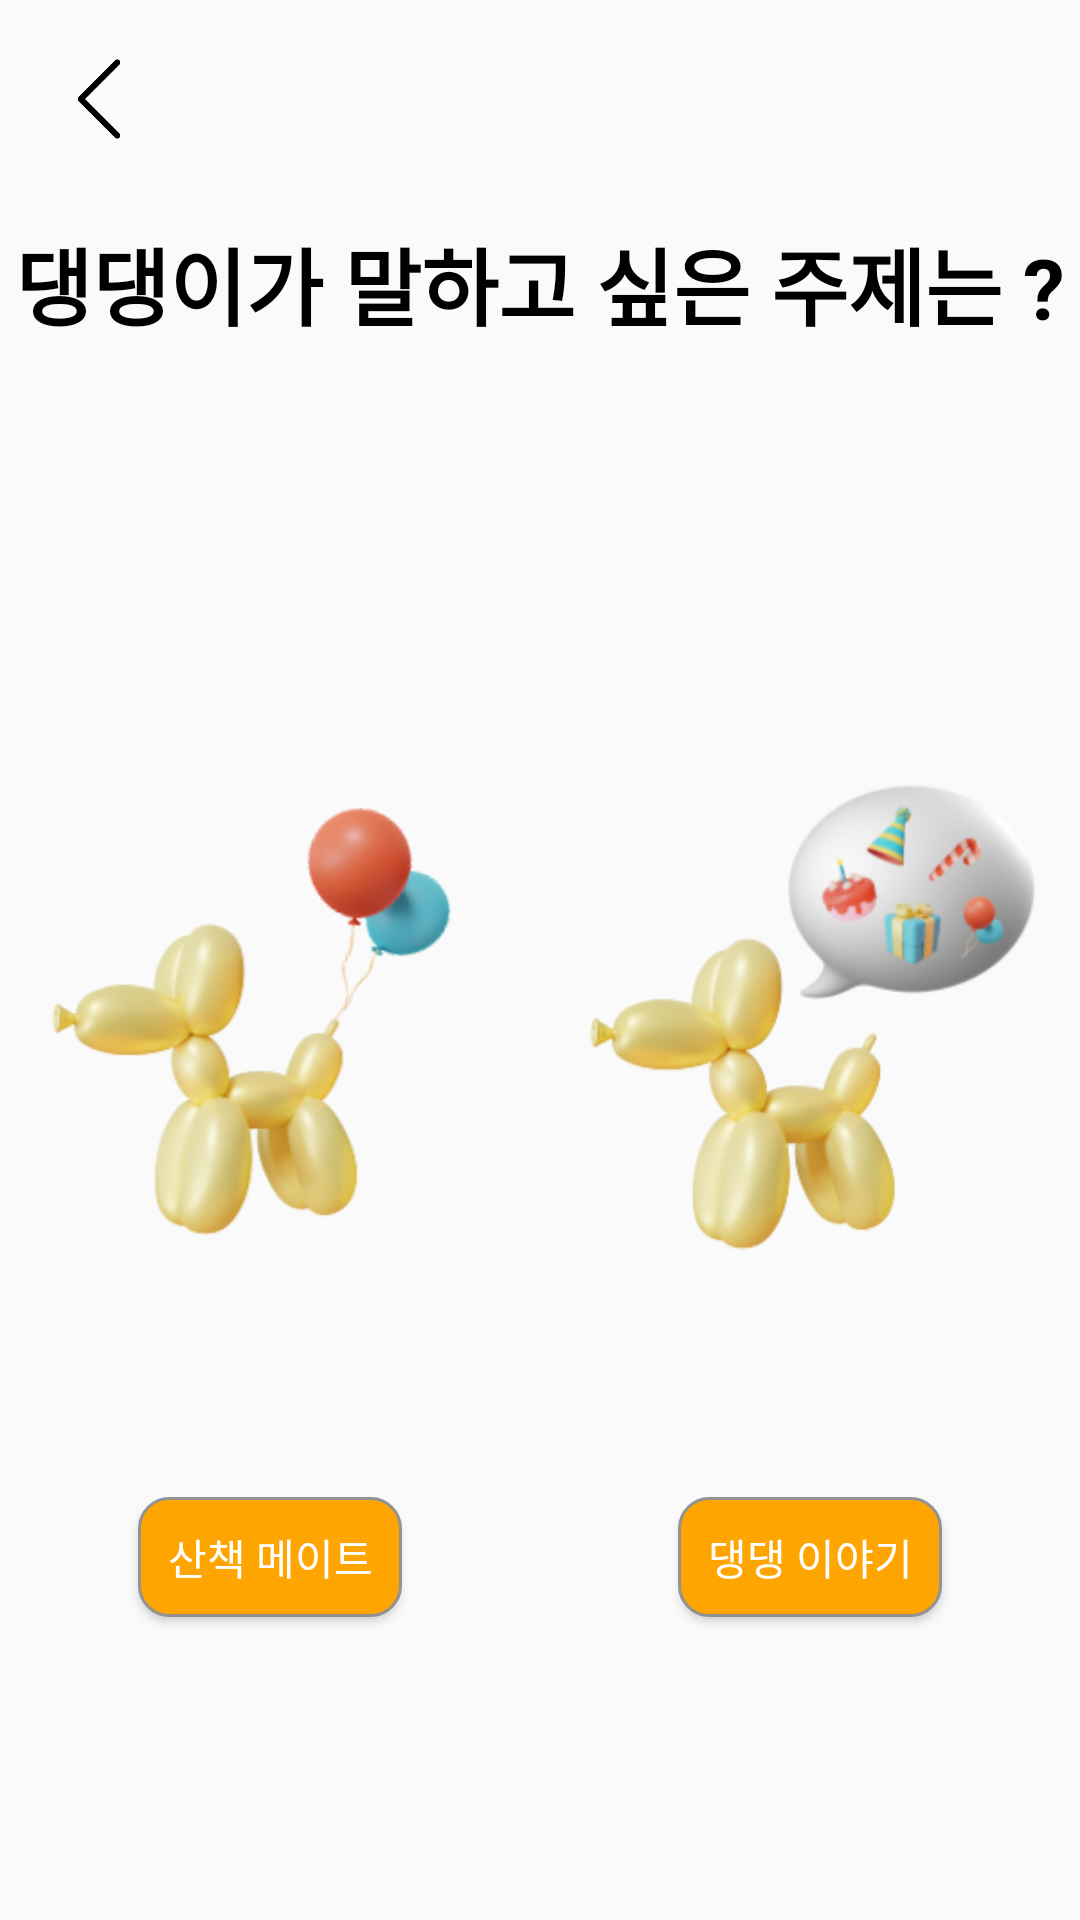

Icon bounding boxes for this 1080×1920 phone screenshot, format (x1, y1, x2, y2):
back: (78, 59, 121, 139)
